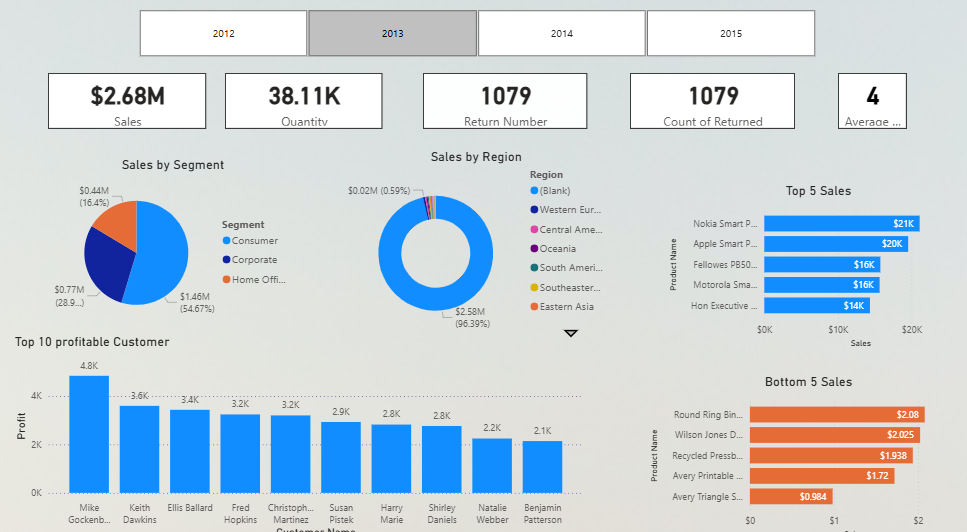

The page's visual inventory and layout, read from the dashboard file:
{"tool":"powerbi","page":{"name":"Page 1","canvas":[1280,720],"ordinal":0},"visuals":[{"type":"card","fields":{"Values":["Sum(Orders.Sales)"]},"box":[70.5,105.8,207.2,73.5],"z":0},{"type":"card","fields":{"Values":["Sum(Orders.Quantity)"]},"box":[302.7,105.8,205.7,73.5],"z":1000},{"type":"card","fields":{"Values":["Avg(Orders.Delivery Day)"]},"box":[1105,105.8,89.6,73.5],"z":2000},{"type":"card","fields":{"Values":["Sum(Returns.Return Number)"]},"box":[561.3,105.8,214.5,73.5],"z":3000},{"type":"card","fields":{"Values":["CountNonNull(Returns.Returned)"]},"box":[833.1,105.8,216,73.5],"z":4000},{"type":"slicer","fields":{"Values":["Orders.Order Date.2"]},"box":[164.6,16.8,934,73.9],"z":5000},{"type":"clusteredBarChart","title":"Top 5 Sales","fields":{"Category":["Orders.Product Name"],"Y":["Sum(Orders.Sales)"]},"box":[878,250,402,220],"z":7000},{"type":"clusteredBarChart","title":"Bottom 5 Sales","fields":{"Y":["Sum(Orders.Sales)"],"Category":["Orders.Product Name"]},"box":[854,500,426,220],"z":8000},{"type":"pieChart","fields":{"Category":["Orders.Segment"],"Y":["Sum(Orders.Sales)"]},"box":[70,216,330,232],"z":9000},{"type":"donutChart","fields":{"Category":["People.Region"],"Y":["Sum(Orders.Sales)"]},"box":[450,206,362,254],"z":10000},{"type":"clusteredColumnChart","title":"Top 10 profitable Customer","fields":{"Category":["Orders.Customer Name"],"Y":["Sum(Orders.Profit)"]},"box":[22,448,754,272],"z":11000}]}

Visuals, with their boxes in screenshot pixels (x1, y1, x2, y2), scaled from the page's 1280x720 canvas onto the 967x532 screenshot:
card - Sum(Orders.Sales): (53,78,210,132)
card - Sum(Orders.Quantity): (229,78,384,132)
card - Avg(Orders.Delivery Day): (835,78,902,132)
card - Sum(Returns.Return Number): (424,78,586,132)
card - CountNonNull(Returns.Returned): (629,78,793,132)
slicer - Orders.Order Date.2: (124,12,830,67)
"Top 5 Sales" clusteredBarChart: (663,185,966,347)
"Bottom 5 Sales" clusteredBarChart: (645,369,966,531)
pieChart - Orders.Segment x Sum(Orders.Sales): (53,160,302,331)
donutChart - People.Region x Sum(Orders.Sales): (340,152,613,340)
"Top 10 profitable Customer" clusteredColumnChart: (17,331,586,531)
